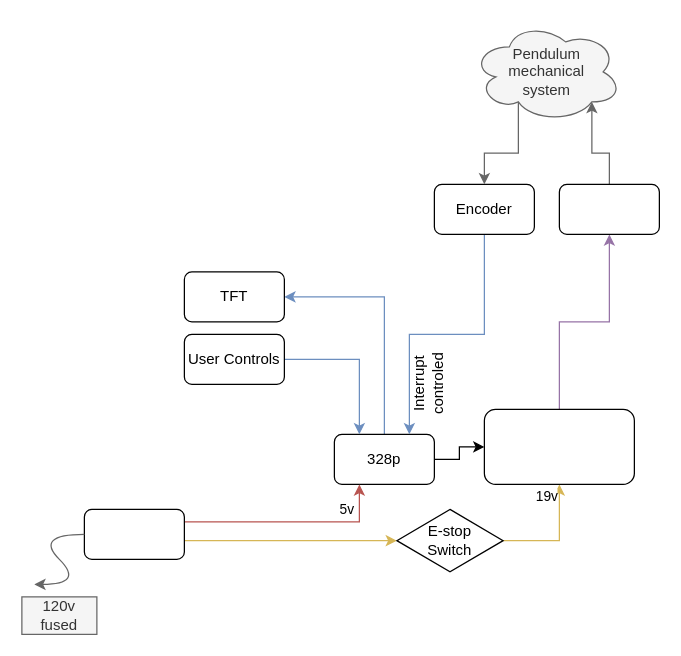
Image size: 681x656. Some labels were removed from this diagram. The shapes that lost their labels are listed below. From the top down, each one's box as (x1, y1, x2, y2) in pixels, then its label:
(558, 183, 659, 234): Motor
(483, 408, 634, 484): Motor Controller
(83, 508, 184, 559): PSU
